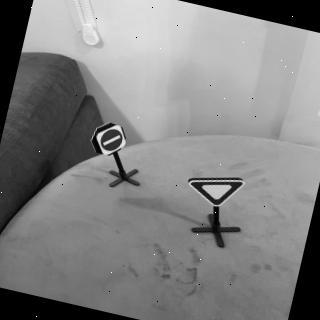sign_noentry: (92, 121, 132, 162)
sign_yield: (184, 169, 247, 214)
